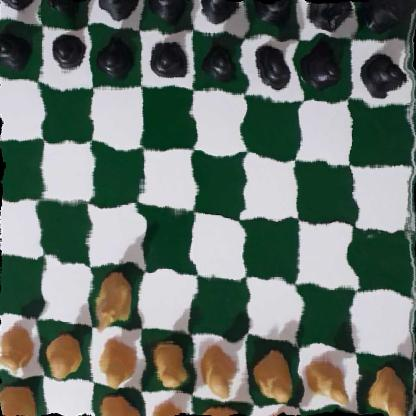black-bishop: (249, 0, 297, 30), (95, 0, 139, 16)
black-king: (196, 0, 244, 26)
black-knight: (308, 0, 347, 34), (45, 0, 78, 17)
black-pawn: (359, 47, 405, 95), (251, 42, 291, 92), (307, 38, 343, 93), (148, 30, 185, 80), (100, 28, 132, 76), (201, 41, 237, 83), (51, 30, 85, 72), (0, 27, 31, 68)
black-queen: (145, 0, 187, 19)
black-rook: (361, 0, 410, 34), (0, 0, 34, 11)
white-bishop: (99, 391, 139, 416), (256, 410, 298, 416)
white-king: (198, 403, 244, 416)
white-knight: (92, 266, 134, 332)
white-pawn: (301, 354, 350, 410), (196, 340, 238, 399), (368, 363, 413, 416), (147, 335, 187, 392), (255, 350, 291, 406), (0, 321, 38, 374), (45, 328, 85, 377), (98, 338, 135, 388)
white-queen: (147, 396, 189, 416)
white-rook: (0, 376, 35, 416)
